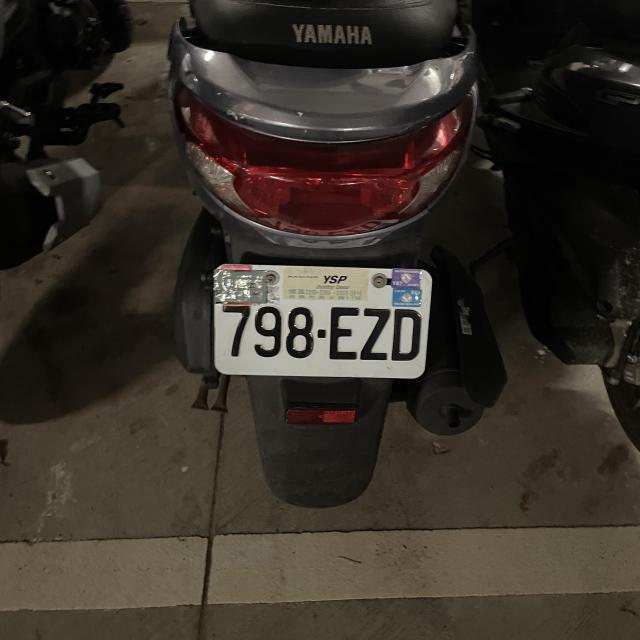W: (209, 264, 432, 378)
